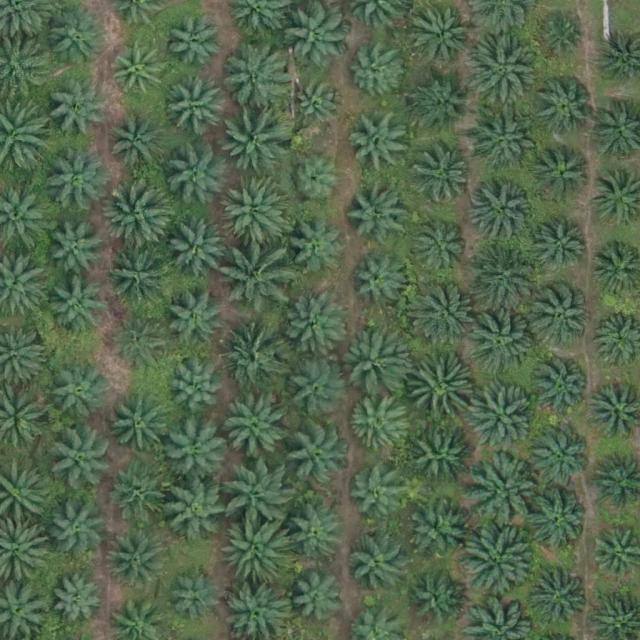Healthy: (220, 106, 291, 177), (465, 40, 536, 111), (464, 382, 535, 453), (47, 424, 118, 495), (103, 177, 173, 248), (223, 246, 293, 317), (408, 278, 478, 349), (469, 241, 539, 312), (467, 308, 537, 379), (462, 526, 532, 597), (400, 496, 470, 567), (221, 517, 291, 588), (223, 459, 293, 530), (217, 42, 287, 112), (219, 177, 289, 247), (404, 357, 474, 427), (470, 454, 540, 524), (45, 274, 108, 337), (45, 360, 108, 423), (109, 309, 172, 372), (110, 248, 173, 311), (169, 219, 232, 282), (339, 328, 402, 391), (472, 183, 535, 246), (525, 566, 588, 629), (345, 534, 408, 597), (349, 464, 412, 527), (165, 421, 228, 484), (46, 4, 108, 67), (44, 149, 106, 212), (164, 78, 226, 141), (167, 146, 229, 209), (165, 289, 227, 352), (222, 329, 284, 392), (281, 296, 343, 359), (347, 179, 409, 242), (281, 357, 343, 420), (408, 214, 470, 277), (412, 144, 475, 206), (410, 3, 472, 66), (471, 114, 533, 177), (534, 142, 596, 205), (529, 359, 591, 422), (530, 426, 593, 488), (527, 488, 589, 551), (413, 429, 475, 492), (287, 426, 349, 489), (285, 503, 347, 566), (224, 394, 286, 457), (105, 530, 168, 592), (110, 462, 172, 525), (110, 394, 172, 457), (287, 4, 349, 66), (348, 107, 410, 169), (412, 76, 474, 138), (534, 284, 596, 346), (533, 76, 595, 138), (169, 483, 231, 545), (51, 226, 106, 281), (109, 47, 164, 102), (170, 366, 225, 421), (287, 222, 342, 277), (289, 156, 344, 211), (291, 79, 346, 134), (347, 44, 402, 99), (409, 572, 464, 627), (351, 399, 406, 454), (289, 569, 344, 624), (166, 573, 221, 628), (52, 571, 107, 626), (50, 86, 104, 141), (108, 119, 162, 174), (167, 18, 221, 73), (352, 253, 406, 308), (531, 220, 585, 275), (52, 504, 106, 559)
Small: (539, 15, 586, 63)
